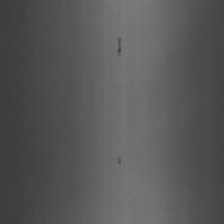oil_spot: (114, 32, 126, 62), (115, 149, 124, 174)
